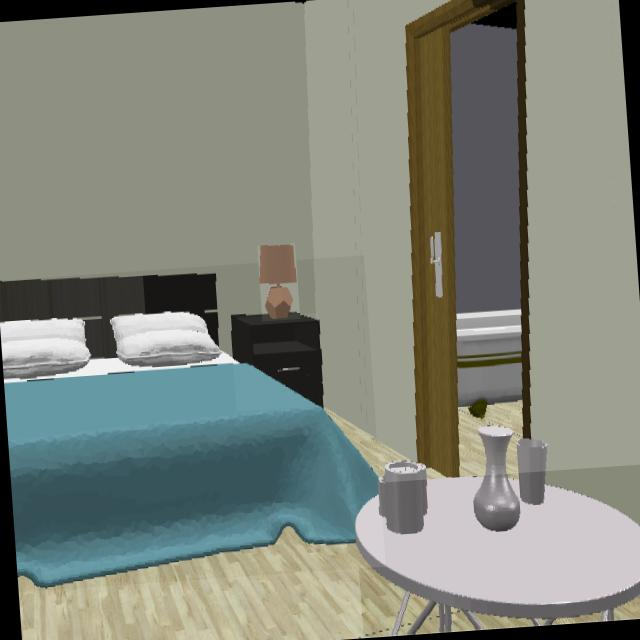bed: (0, 274, 379, 590)
lamp: (259, 245, 297, 319)
nighttable: (230, 316, 324, 405)
table: (355, 477, 640, 635)
